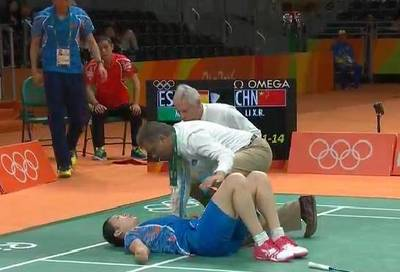fall: (104, 170, 322, 264)
